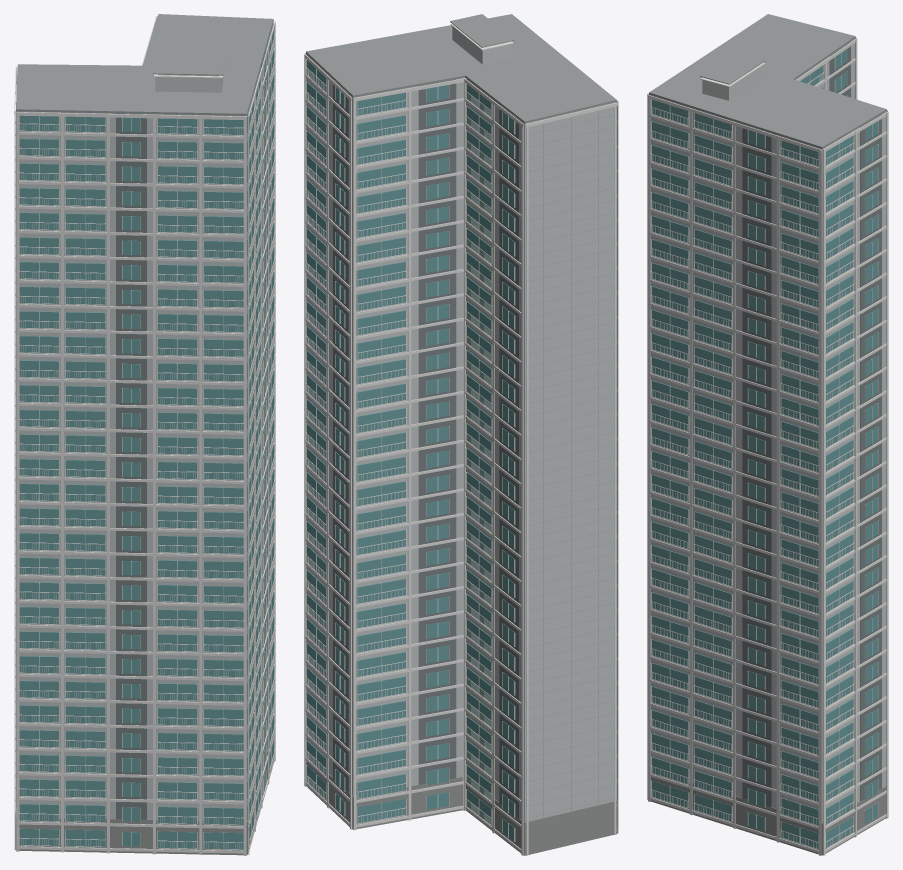
File: bespoke-jamsil-ricenz-225.glb
The picture shows the model from 3 angles, left to right: view 1: azimuth 30°, elevation 25°; view 2: azimuth 150°, elevation 25°; view 3: azimuth 270°, elevation 25°; orthographic projection. The views are drawn at different scales.
Parts seen in each view (by area): view 1: Ricenz225_editable_Ricenz225_turquoise_balcony_glazing, Ricenz225_editable_Ricenz225_light_grey_solid_wall, Ricenz225_white_exact_chunk_1, Ricenz225_white_exact_chunk_0, Ricenz225_editable_Ricenz225_modest_grey_flat_roof_caps, Ricenz225_editable_Ricenz225_narrow_charcoal_service_strips, Ricenz225_white_exact_chunk_2, Ricenz225_white_exact_chunk_3, Ricenz225_editable_Ricenz225_muted_ground_wall; view 2: Ricenz225_editable_Ricenz225_light_grey_solid_wall, Ricenz225_editable_Ricenz225_turquoise_balcony_glazing, Ricenz225_white_exact_chunk_4, Ricenz225_editable_Ricenz225_narrow_charcoal_service_strips, Ricenz225_white_exact_chunk_3, Ricenz225_editable_Ricenz225_modest_grey_flat_roof_caps, Ricenz225_editable_Ricenz225_muted_ground_wall, Ricenz225_white_exact_chunk_0, Ricenz225_white_exact_chunk_1; view 3: Ricenz225_editable_Ricenz225_turquoise_balcony_glazing, Ricenz225_editable_Ricenz225_light_grey_solid_wall, Ricenz225_white_exact_chunk_3, Ricenz225_white_exact_chunk_2, Ricenz225_editable_Ricenz225_narrow_charcoal_service_strips, Ricenz225_editable_Ricenz225_modest_grey_flat_roof_caps, Ricenz225_white_exact_chunk_1, Ricenz225_editable_Ricenz225_muted_ground_wall, Ricenz225_white_exact_chunk_4.
Boxes of the visible parts, <box> form: Ricenz225_editable_Ricenz225_turquoise_balcony_glazing: <box>19,25,273,849</box>; Ricenz225_editable_Ricenz225_light_grey_solid_wall: <box>16,21,273,821</box>; Ricenz225_white_exact_chunk_1: <box>16,112,255,855</box>; Ricenz225_white_exact_chunk_0: <box>14,66,199,852</box>; Ricenz225_editable_Ricenz225_modest_grey_flat_roof_caps: <box>15,14,273,812</box>; Ricenz225_editable_Ricenz225_narrow_charcoal_service_strips: <box>116,49,266,819</box>; Ricenz225_white_exact_chunk_2: <box>248,57,275,826</box>; Ricenz225_white_exact_chunk_3: <box>248,21,275,854</box>; Ricenz225_editable_Ricenz225_muted_ground_wall: <box>15,738,274,855</box>; Ricenz225_editable_Ricenz225_light_grey_solid_wall: <box>306,26,616,822</box>; Ricenz225_editable_Ricenz225_turquoise_balcony_glazing: <box>306,60,514,840</box>; Ricenz225_white_exact_chunk_4: <box>353,24,523,855</box>; Ricenz225_editable_Ricenz225_narrow_charcoal_service_strips: <box>333,79,519,818</box>; Ricenz225_white_exact_chunk_3: <box>304,52,408,829</box>; Ricenz225_editable_Ricenz225_modest_grey_flat_roof_caps: <box>306,14,616,818</box>; Ricenz225_editable_Ricenz225_muted_ground_wall: <box>306,757,617,855</box>; Ricenz225_white_exact_chunk_0: <box>525,102,617,855</box>; Ricenz225_white_exact_chunk_1: <box>617,100,618,833</box>; Ricenz225_editable_Ricenz225_turquoise_balcony_glazing: <box>651,49,877,848</box>; Ricenz225_editable_Ricenz225_light_grey_solid_wall: <box>649,38,886,823</box>; Ricenz225_white_exact_chunk_3: <box>648,95,888,855</box>; Ricenz225_white_exact_chunk_2: <box>650,99,818,852</box>; Ricenz225_editable_Ricenz225_narrow_charcoal_service_strips: <box>742,41,881,807</box>; Ricenz225_editable_Ricenz225_modest_grey_flat_roof_caps: <box>649,14,886,148</box>; Ricenz225_white_exact_chunk_1: <box>647,93,689,812</box>; Ricenz225_editable_Ricenz225_muted_ground_wall: <box>650,773,886,855</box>; Ricenz225_white_exact_chunk_4: <box>700,38,887,111</box>.
Bounding box in the file's own units: 36.14 × 90.96 × 27.38.
